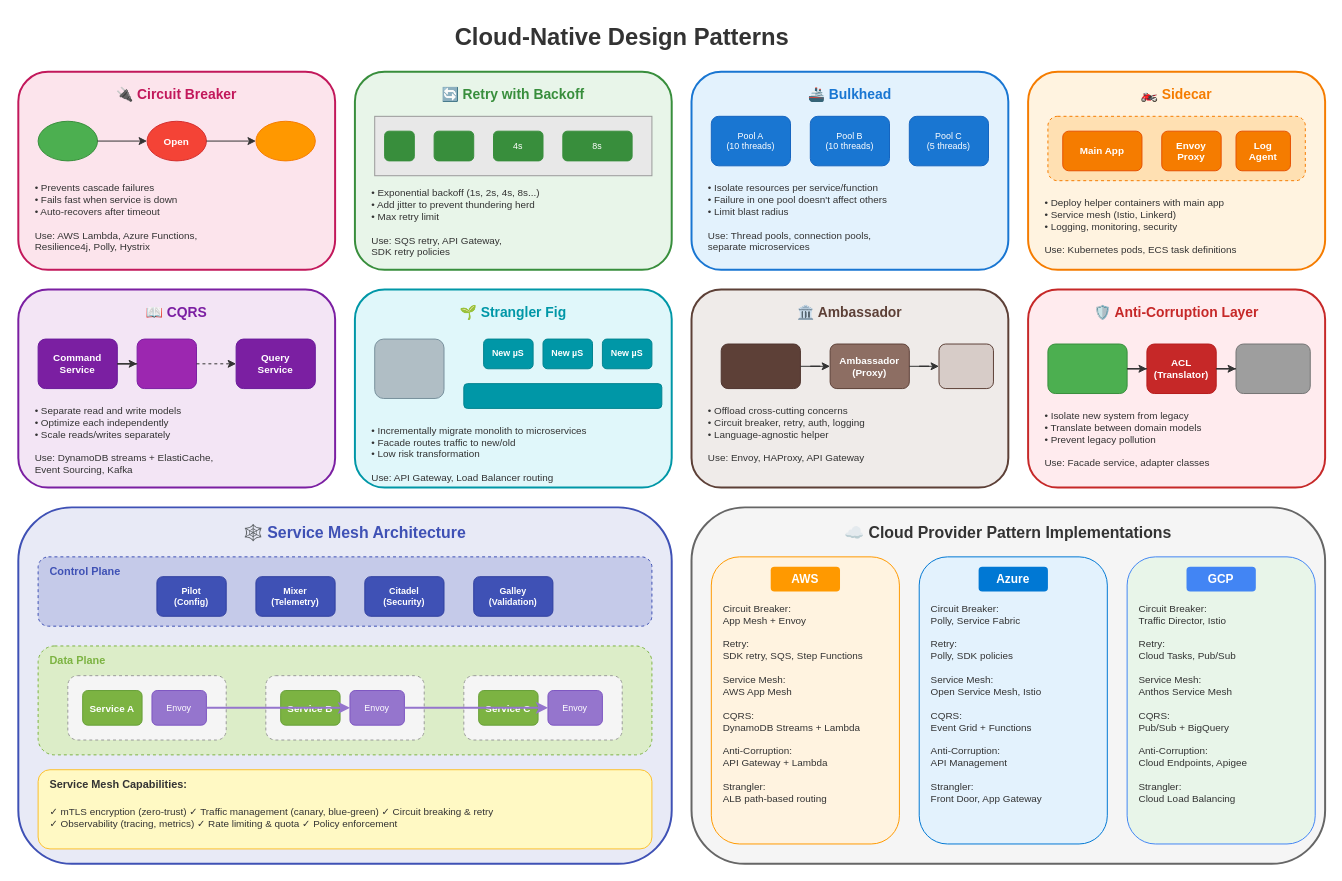
The diagram is 1342 pixels wide and 881 high, and some of its shapes have lost their labels. Here are the shapes that lost their labels. From the top down, the box of each, then its label:
(37, 120, 98, 161): Closed
(255, 120, 315, 161): Half-Open
(384, 130, 414, 161): 1s
(433, 130, 474, 161): 2s
(136, 338, 197, 389): Event Store
(374, 338, 444, 398): Legacy Monolith
(720, 343, 800, 389): Application
(938, 343, 993, 389): External Services
(1047, 343, 1127, 394): New System (Clean Model)
(1235, 343, 1310, 394): Legacy (Messy Model)
(463, 383, 662, 408): API Facade / Gateway
